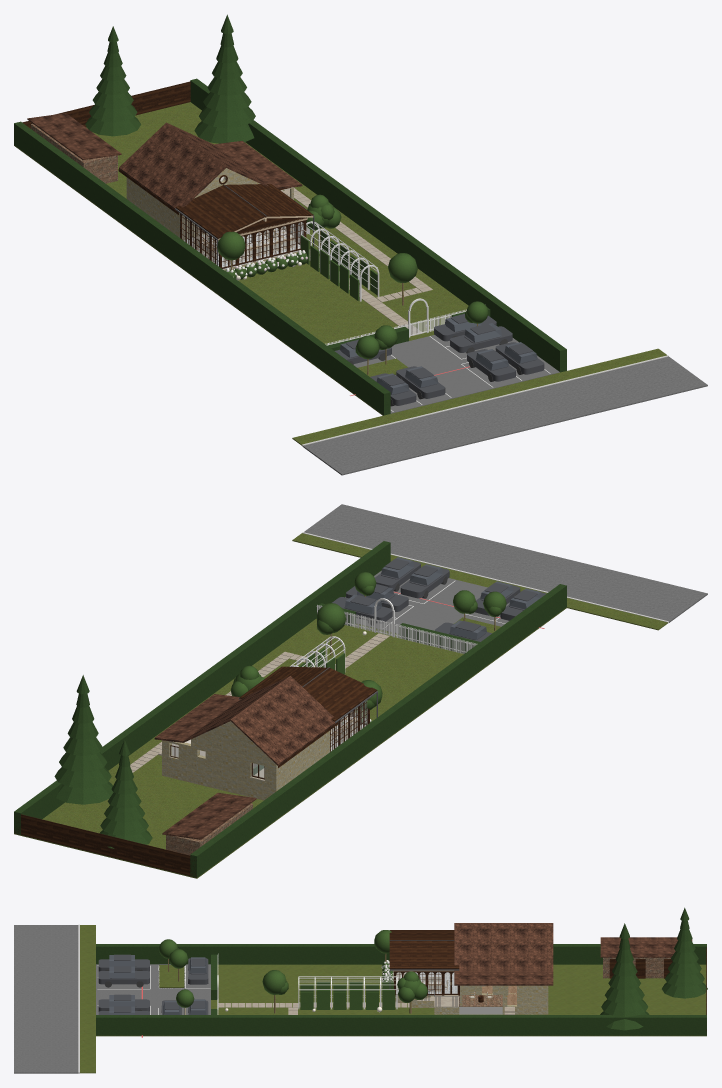
The model's file is vikendica.glb.
3 renders of one model, top to bottom at view 1: azimuth 30°, elevation 25°; view 2: azimuth 150°, elevation 25°; view 3: azimuth 270°, elevation 25°, orthographic. The views are drawn at different scales.
Visible parts, largest first — view 1: Geom3D (×24); view 2: Geom3D (×24); view 3: Geom3D (×31).
Part boxes in pixels (x1,y1,x2,y2): Geom3D (×24): (14, 14, 707, 475); Geom3D (×24): (14, 504, 707, 878); Geom3D (×31): (14, 907, 707, 1073).
Bounding box in the file's own units: 32 × 11.4 × 63.59.
Materials: 43 (21 with a texture image).
